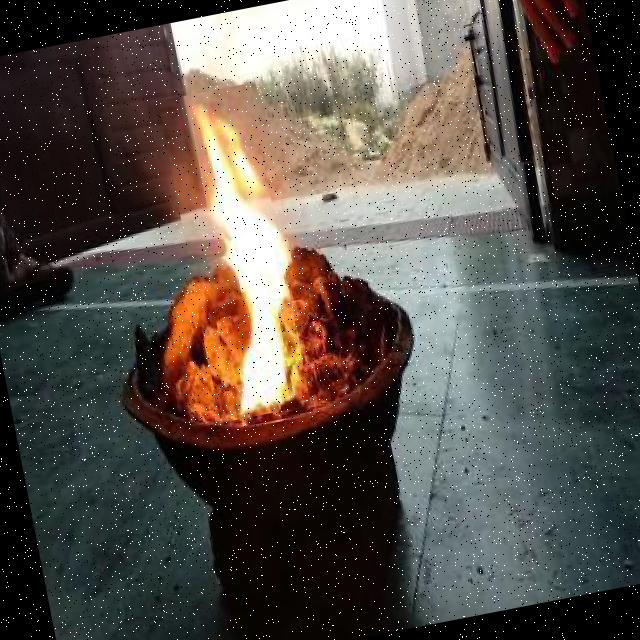fire: (158, 83, 311, 423)
